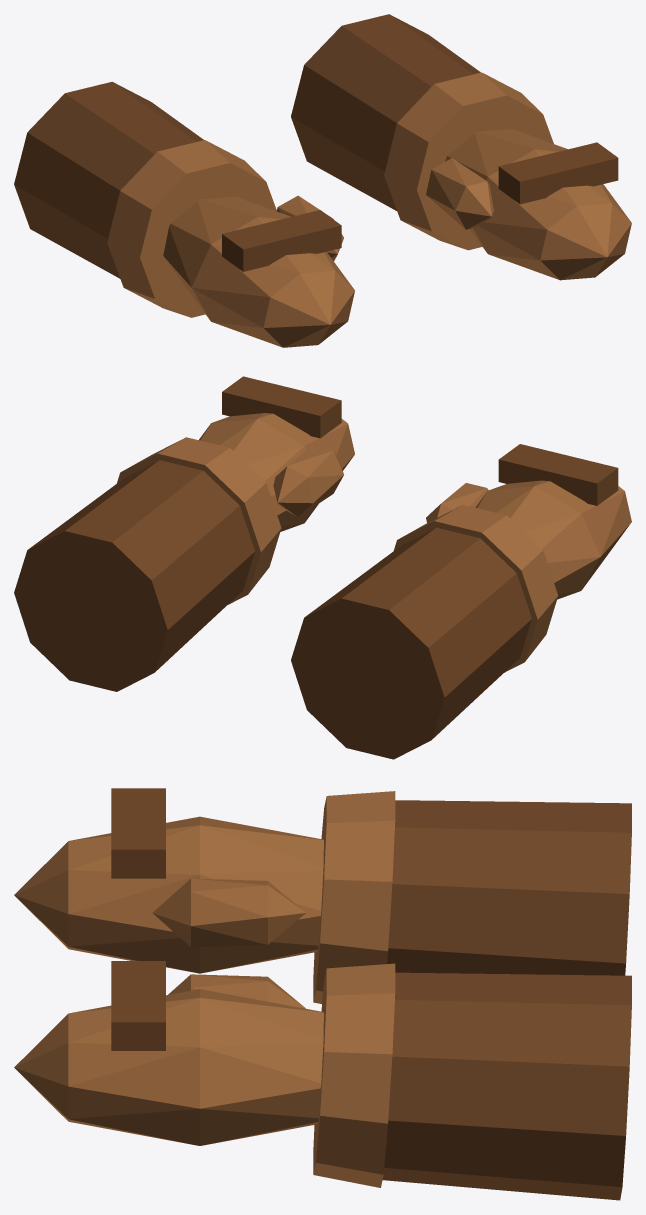
File: drop_gloves_leather.glb
The picture shows the model from 3 angles, top to bottom: view 1: azimuth 30°, elevation 25°; view 2: azimuth 150°, elevation 25°; view 3: azimuth 270°, elevation 25°; orthographic projection. The views are drawn at different scales.
Visible parts, largest first — view 1: drop_gloves_leather; view 2: drop_gloves_leather; view 3: drop_gloves_leather.
Boxes of the visible parts, x1=… form: drop_gloves_leather: x1=14, y1=14, x2=631, y2=347; drop_gloves_leather: x1=14, y1=376, x2=631, y2=759; drop_gloves_leather: x1=14, y1=788, x2=631, y2=1200.
Size of the model in its own units: 0.224 by 0.0807 by 0.2181.
